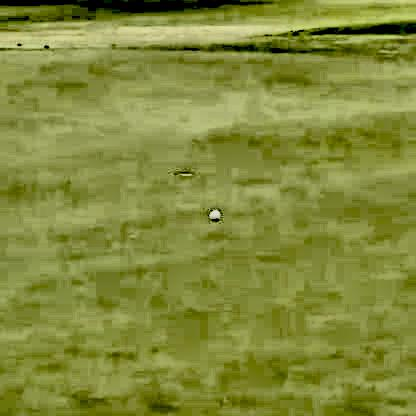golfball: (207, 206, 219, 220)
